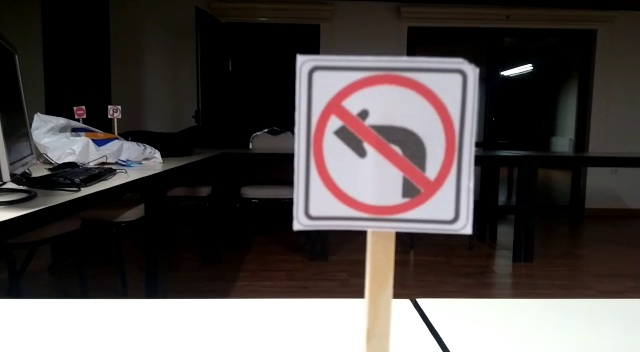sola_donulmez: (294, 63, 476, 226)
